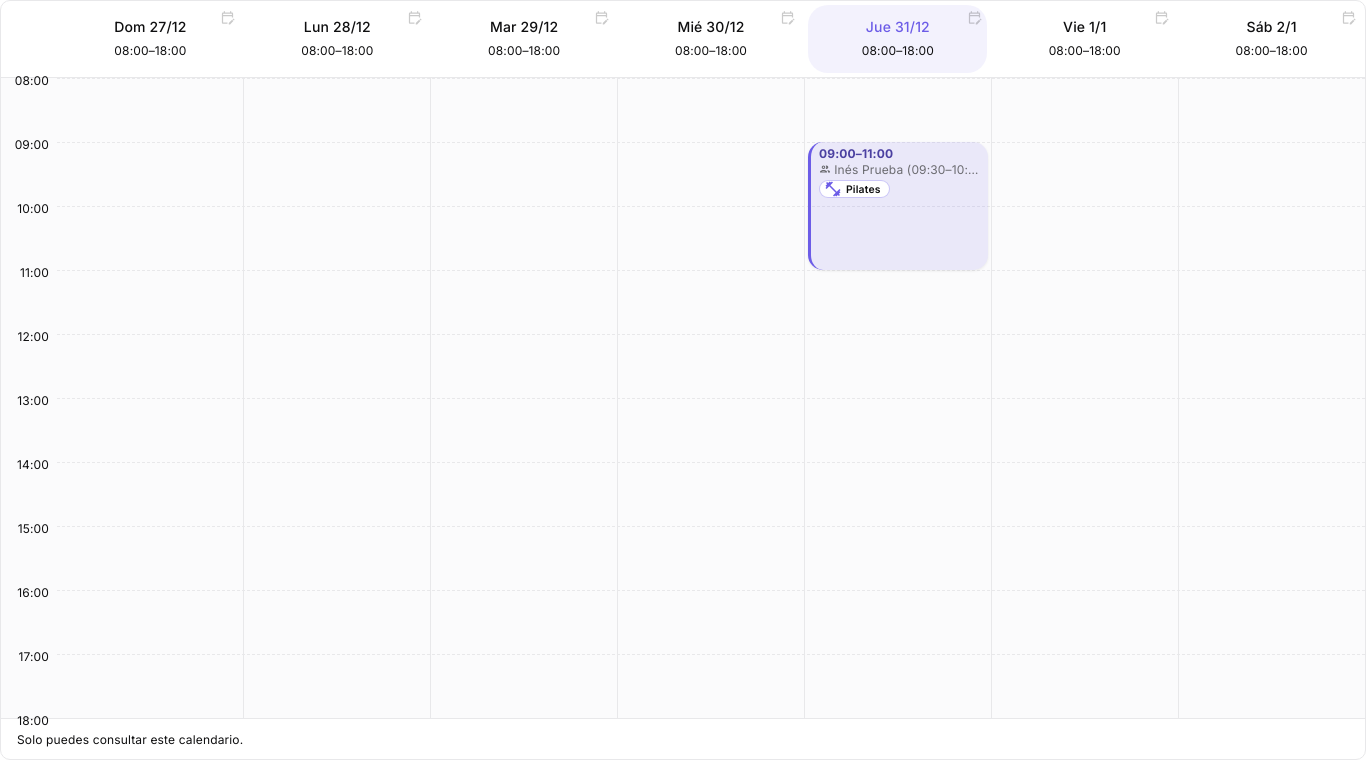
Test: muestra HH:mm y rango parcial del instructor; el encabezado al cruzar año mantiene fecha local
Check: the text "09:00–11:00" is shown, box [819,146,893,161]
Check: the text "Inés Prueba (09:30–10:15)" is shown, box [834,162,980,177]
Step 1. Click the heading "Vie 1/1" → coordinates (1085, 26), box [1063,18,1106,35]
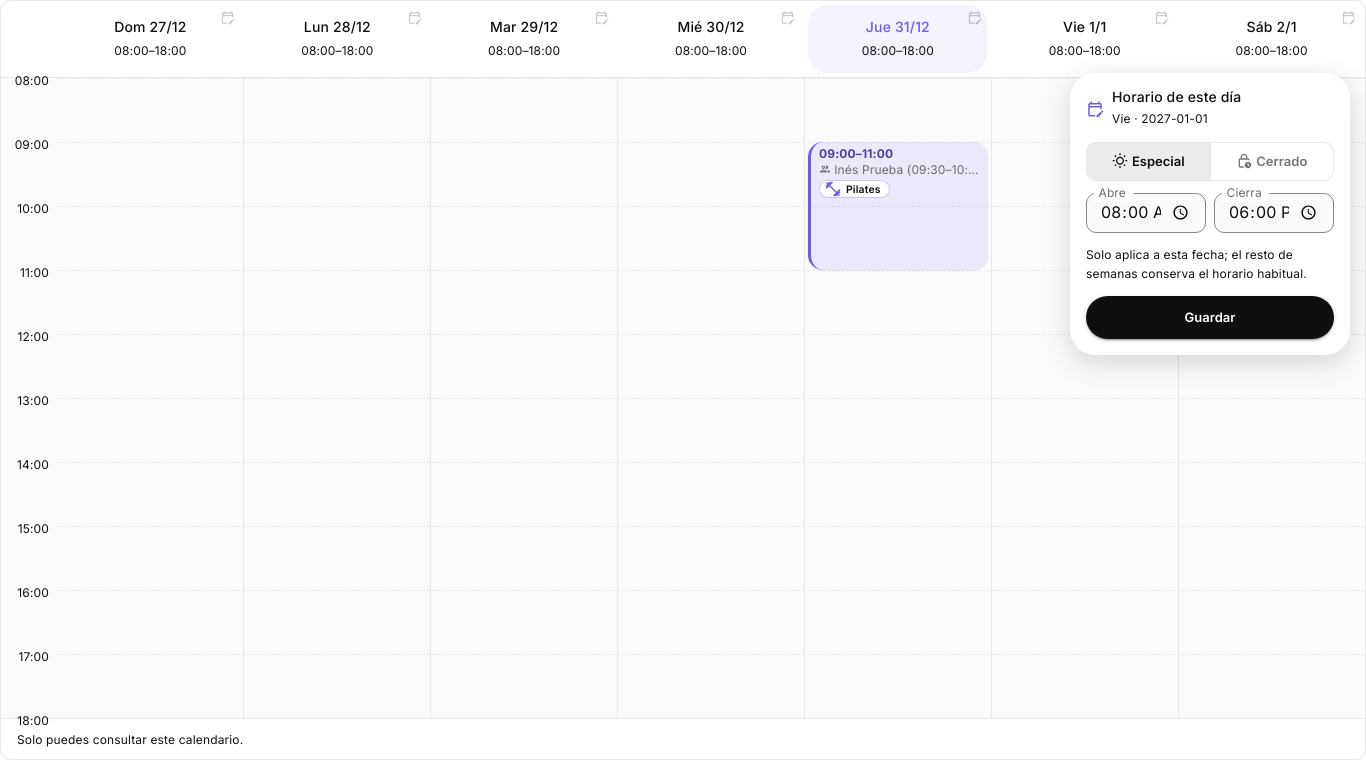
Check: the text "Vie · 2027-01-01" is shown, box [1112,111,1208,126]
